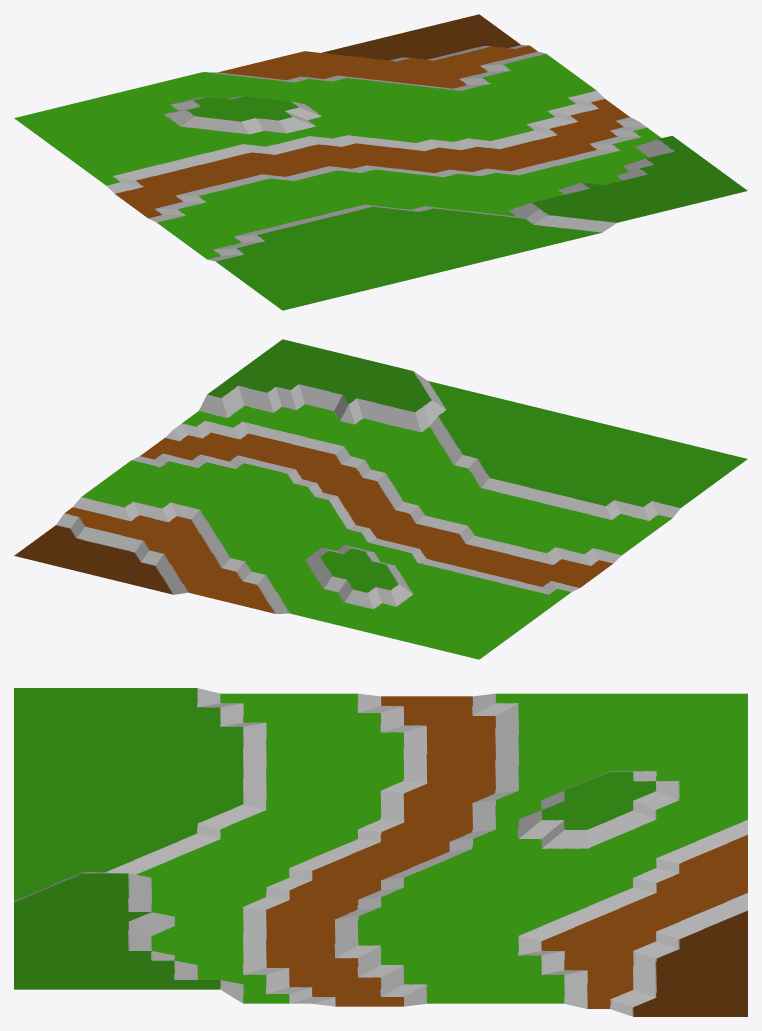
File: TerrainAgain.obj
3 renders of one model, top to bottom at view 1: azimuth 30°, elevation 25°; view 2: azimuth 150°, elevation 25°; view 3: azimuth 270°, elevation 25°, orthographic. The views are drawn at different scales.
Parts seen in each view (by area): view 1: Plane_Plane.002; view 2: Plane_Plane.002; view 3: Plane_Plane.002.
Boxes of the visible parts, x1,y1,x2,y2 form: Plane_Plane.002: (14,14,747,310); Plane_Plane.002: (14,339,747,659); Plane_Plane.002: (14,688,747,1016).
Size of the model in its own units: 16 by 0.6564 by 16.
6 materials, 6 textured.
